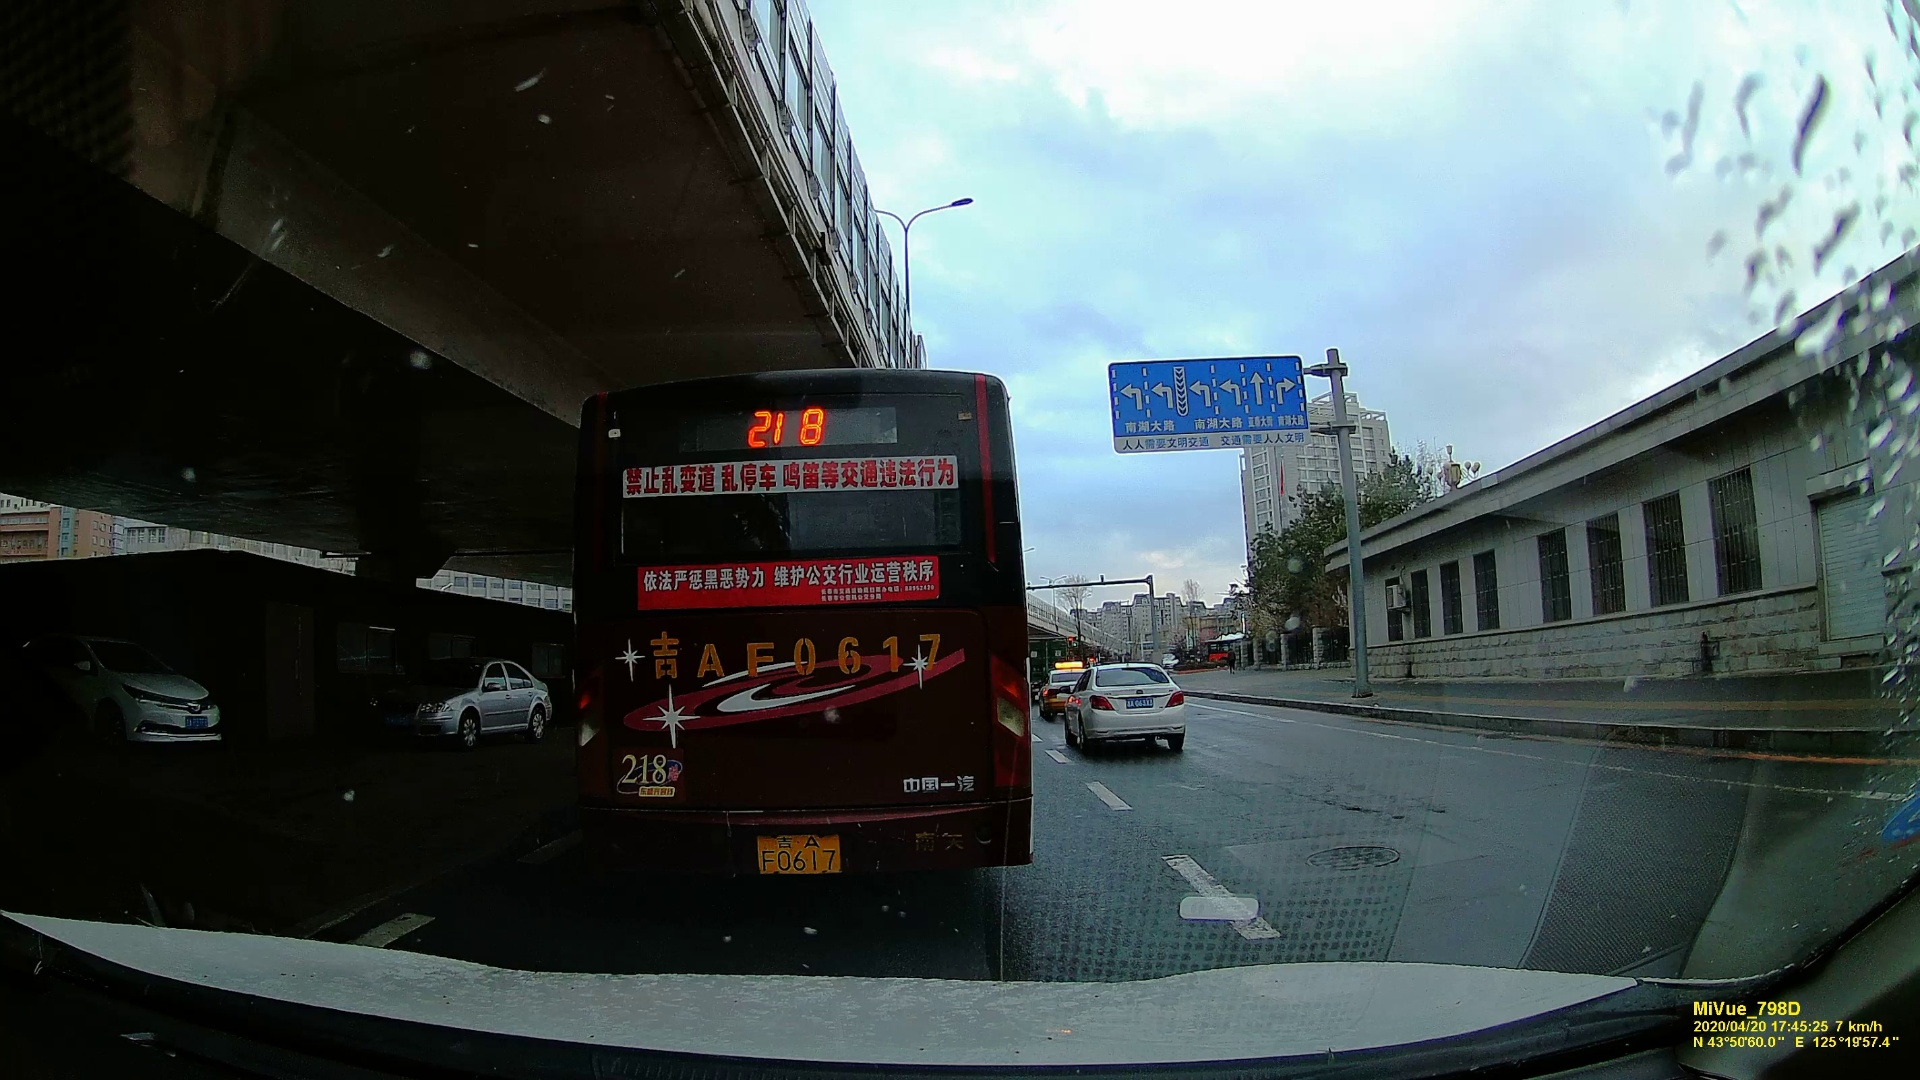bus: (585, 376, 1027, 874)
person: (1225, 645, 1237, 676)
traffic_sign: (1102, 358, 1306, 442)
vehicle: (1057, 659, 1189, 754), (406, 660, 554, 742)
